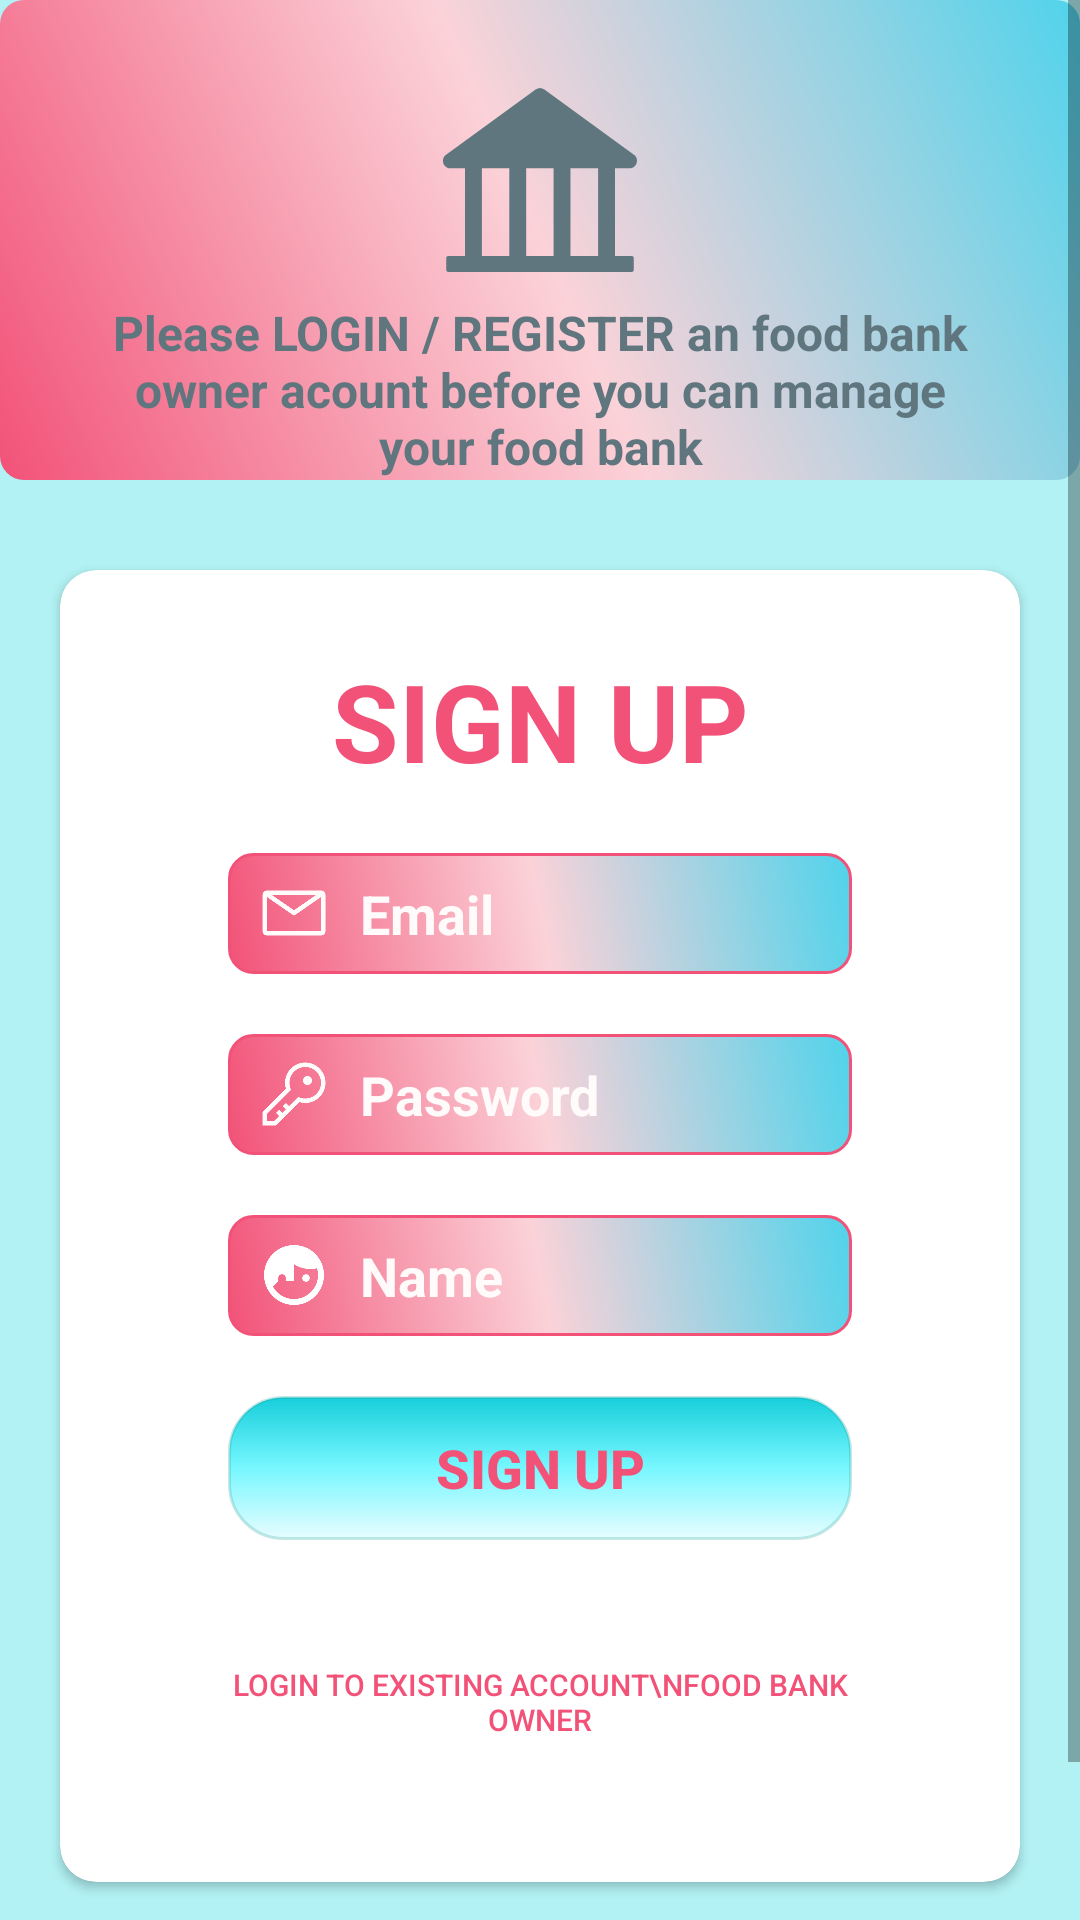

Screen size 1080×1920. Icon name, then its center in pixels as [x,y]:
home manage foodbank owner: [551,176]
